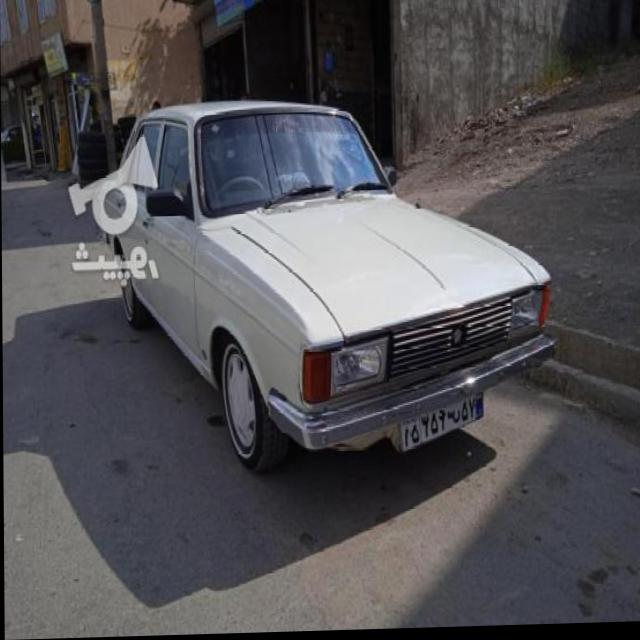licence: (400, 393, 483, 458)
